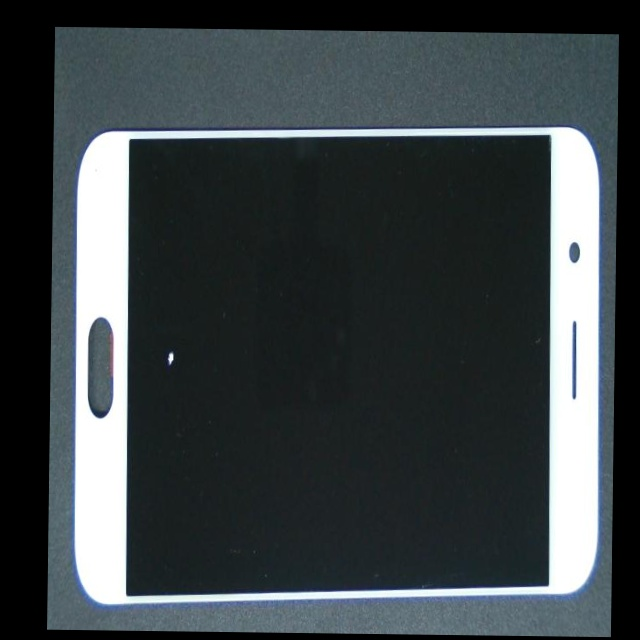stain: (105, 209, 225, 573)
